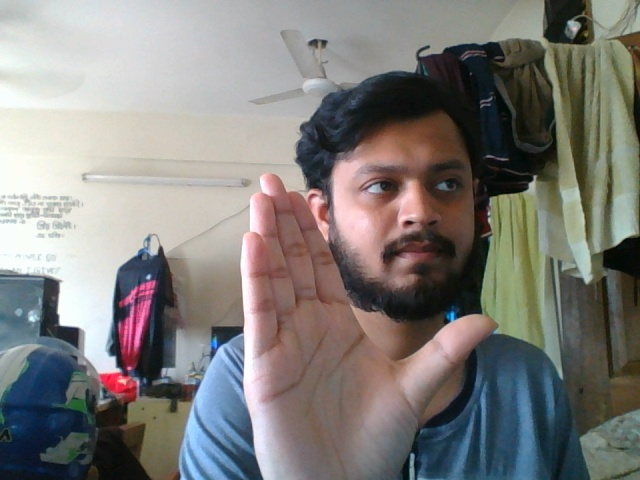a: (231, 167, 505, 480)
